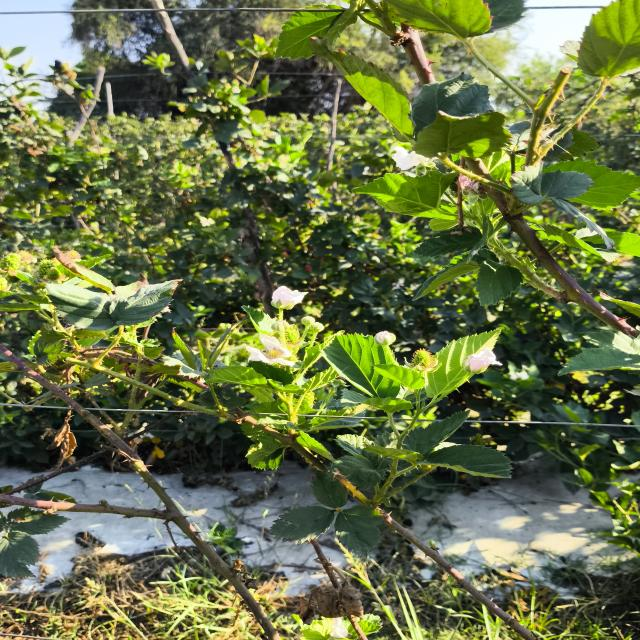boton: (374, 331, 396, 346), (272, 320, 289, 332), (301, 316, 315, 327), (311, 322, 324, 333)
flor: (247, 334, 294, 367), (465, 348, 501, 372), (271, 286, 308, 309)
